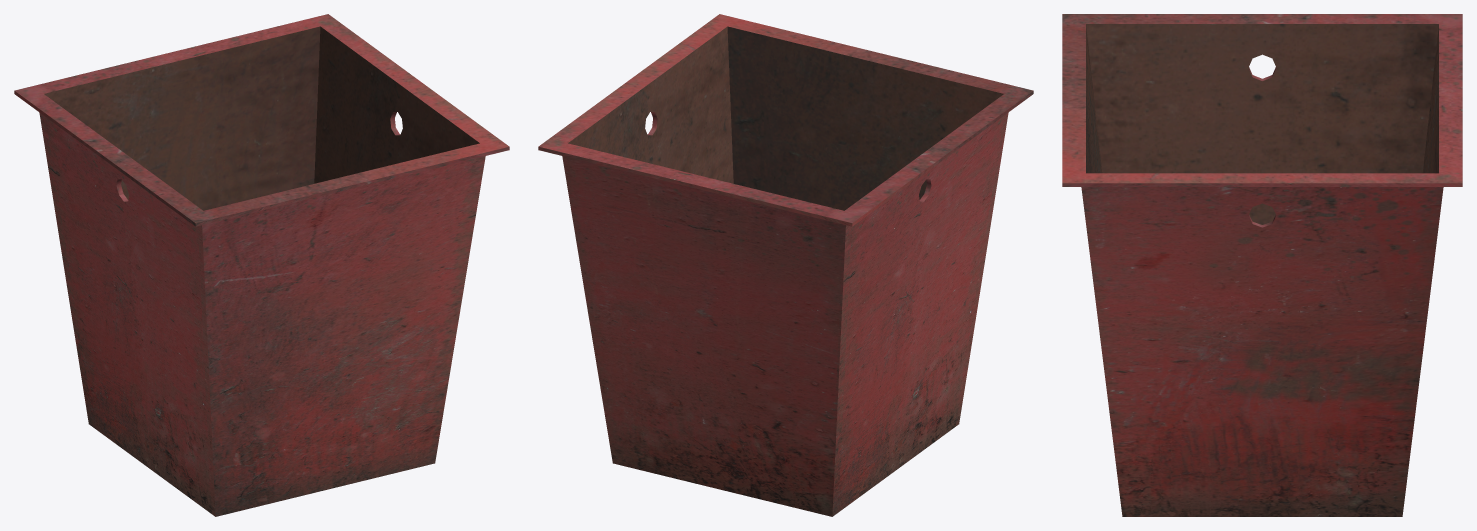
The model's file is trash can.fbx.
The picture shows the model from 3 angles, left to right: view 1: azimuth 30°, elevation 25°; view 2: azimuth 150°, elevation 25°; view 3: azimuth 270°, elevation 25°; orthographic projection. The views are drawn at different scales.
Parts seen in each view (by area): view 1: can; view 2: can; view 3: can.
Part boxes in pixels (x1,y1,x2,y2): can: (14,14,509,516); can: (538,14,1033,516); can: (1062,14,1462,516).
Size of the model in its own units: 286 by 283 by 286.
1 material, 1 textured.
